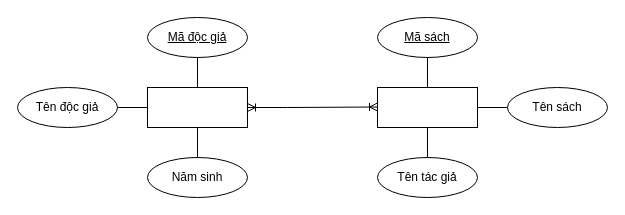
The diagram is 625 pixels wide and 215 high, and some of its shapes have lost their labels. Each missing label, with the centre of its shape:
Sách: [427,107]
Độc giả: [197,107]
